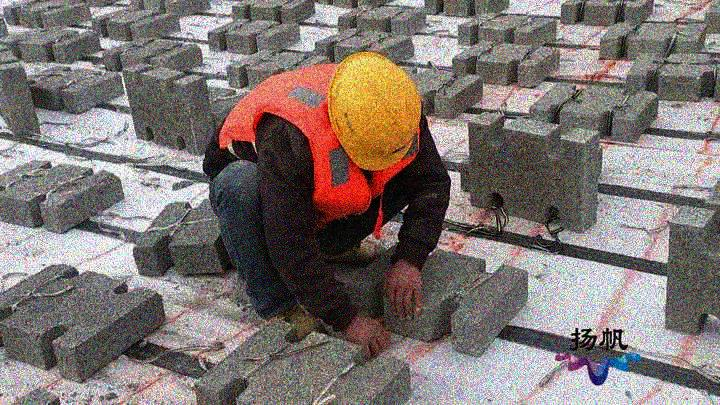helmet: (327, 50, 424, 174)
